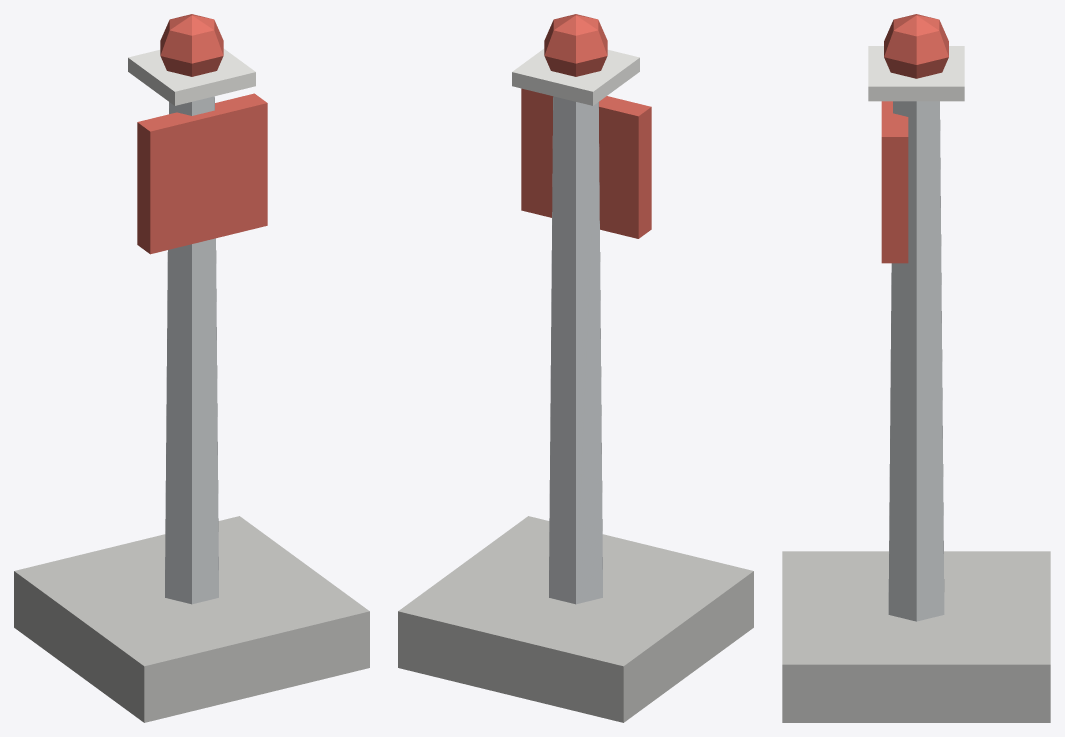
Rendered from radio-telescope-array-and-field-station-survey-marker-93e326d6__37659.glb.
3 views of the same model, side by side, from view 1: azimuth 30°, elevation 25°; view 2: azimuth 150°, elevation 25°; view 3: azimuth 270°, elevation 25° (orthographic). The views are drawn at different scales.
Parts seen in each view (by area): view 1: survey-marker; view 2: survey-marker; view 3: survey-marker.
Part boxes in pixels (x1,y1,x2,y2): survey-marker: [14, 14, 369, 722]; survey-marker: [398, 14, 753, 722]; survey-marker: [782, 14, 1050, 722].
Size of the model in its own units: 0.5 by 1.34 by 0.5.
